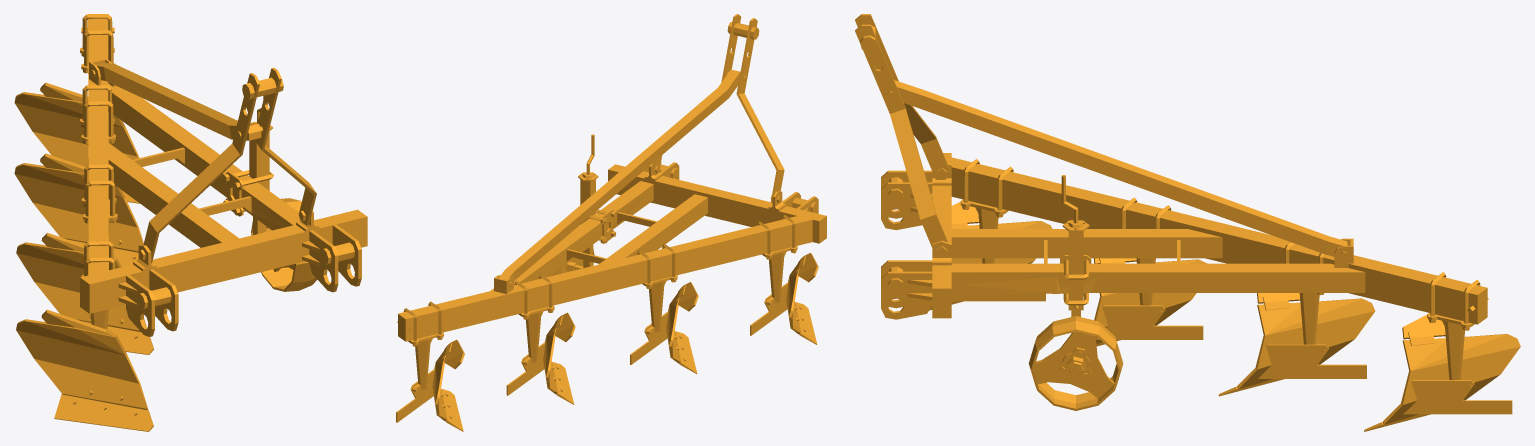
File: SM_Plow_Small.fbx
3 renders of one model, left to right at view 1: azimuth 30°, elevation 25°; view 2: azimuth 150°, elevation 25°; view 3: azimuth 270°, elevation 25°, orthographic. The views are drawn at different scales.
Parts seen in each view (by area): view 1: plow-small-base, plow-small-wheel; view 2: plow-small-base; view 3: plow-small-base, plow-small-wheel.
Part boxes in pixels (x1,y1,x2,y2): plow-small-base: [14, 14, 367, 431]; plow-small-wheel: [251, 198, 317, 291]; plow-small-base: [396, 14, 826, 431]; plow-small-base: [855, 14, 1520, 431]; plow-small-wheel: [1028, 316, 1123, 410].
Size of the model in its own units: 1.76 by 1.9 by 3.26.
